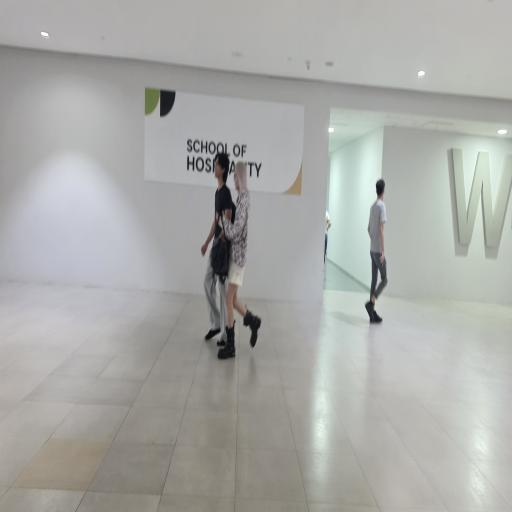person_left: (227, 148, 263, 358), (201, 147, 234, 342)
person_right: (362, 160, 390, 327)
